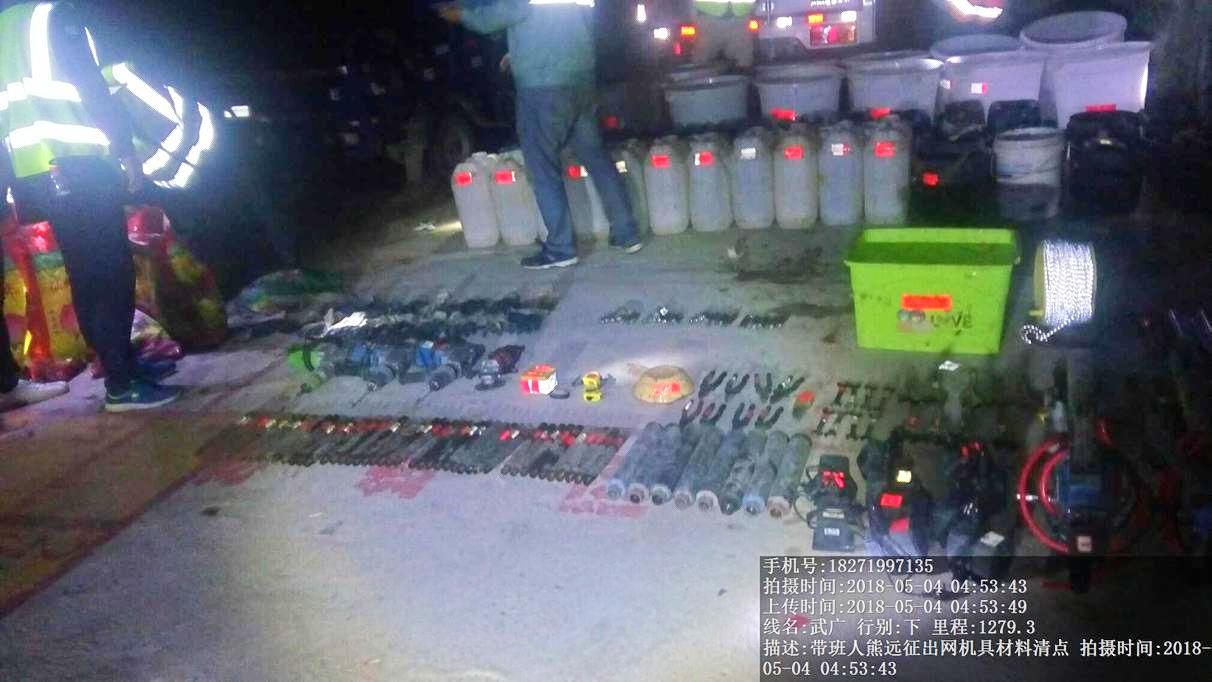DZ: (340, 337, 410, 405), (411, 334, 478, 399), (284, 337, 342, 397)
T: (843, 227, 1027, 359)
